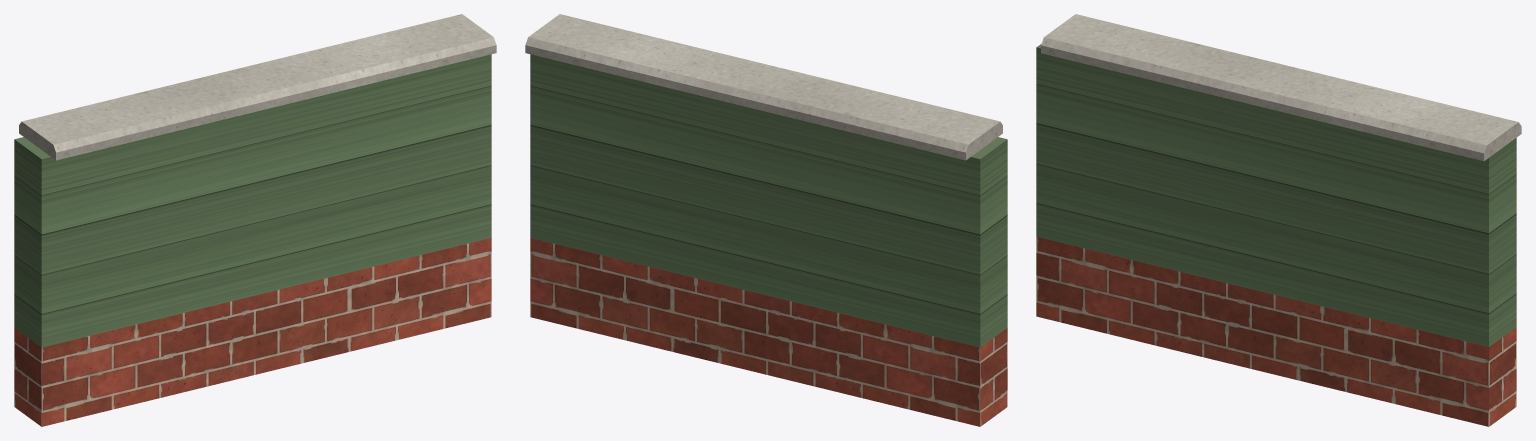
Rendered from porch_side_wall.glb.
The picture shows the model from 3 angles, left to right: view 1: azimuth 30°, elevation 25°; view 2: azimuth 150°, elevation 25°; view 3: azimuth 330°, elevation 25°; orthographic projection.
Visible parts, largest first — view 1: porch_side_wall_siding, porch_side_wall_brick, porch_side_wall_cap; view 2: porch_side_wall_siding, porch_side_wall_brick, porch_side_wall_cap; view 3: porch_side_wall_siding, porch_side_wall_brick, porch_side_wall_cap.
Boxes of the visible parts, box(x1,y1,x2,y2) form: porch_side_wall_siding: box(14, 54, 491, 347); porch_side_wall_brick: box(14, 238, 491, 426); porch_side_wall_cap: box(19, 14, 496, 160); porch_side_wall_siding: box(530, 54, 1007, 347); porch_side_wall_brick: box(530, 238, 1007, 426); porch_side_wall_cap: box(525, 14, 1002, 160); porch_side_wall_siding: box(1036, 44, 1516, 346); porch_side_wall_brick: box(1036, 237, 1516, 426); porch_side_wall_cap: box(1041, 14, 1521, 161).
Size of the model in its own units: 2.38 by 1.42 by 0.34.
Materials: 3 (3 with a texture image).
